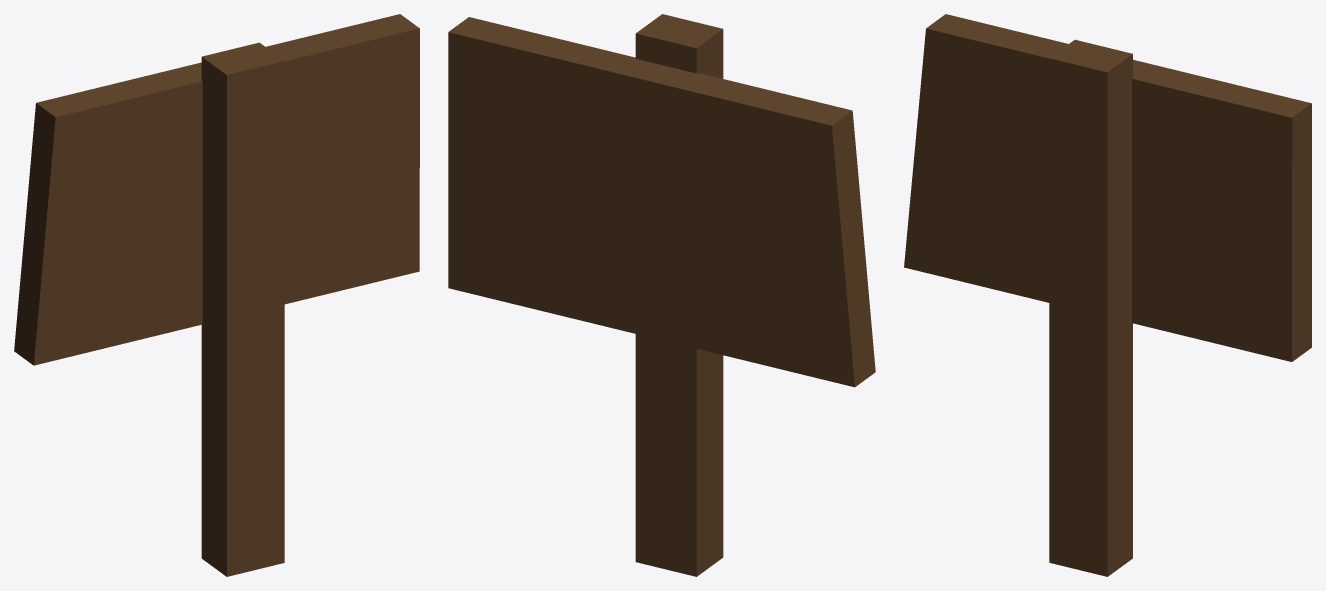
File: sign.glb
3 views of the same model, side by side, from view 1: azimuth 30°, elevation 25°; view 2: azimuth 150°, elevation 25°; view 3: azimuth 330°, elevation 25° (orthographic). The views are drawn at different scales.
Parts seen in each view (by area): view 1: Cube, Cube.001; view 2: Cube, Cube.001; view 3: Cube, Cube.001.
Boxes of the visible parts, bbox=[...] form: Cube: bbox=[14, 14, 419, 365]; Cube.001: bbox=[201, 42, 284, 576]; Cube: bbox=[448, 17, 875, 387]; Cube.001: bbox=[635, 14, 723, 576]; Cube: bbox=[904, 14, 1311, 361]; Cube.001: bbox=[1049, 39, 1132, 576].
Bounding box in the file's own units: 1.6 × 1.99 × 0.3157.
